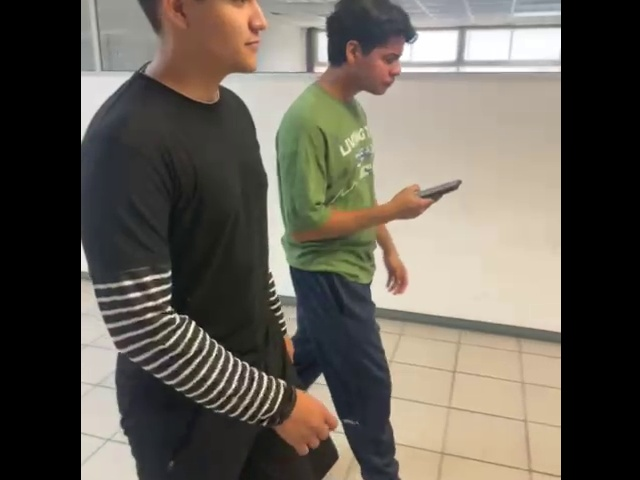mixto2: (416, 168, 463, 202)
